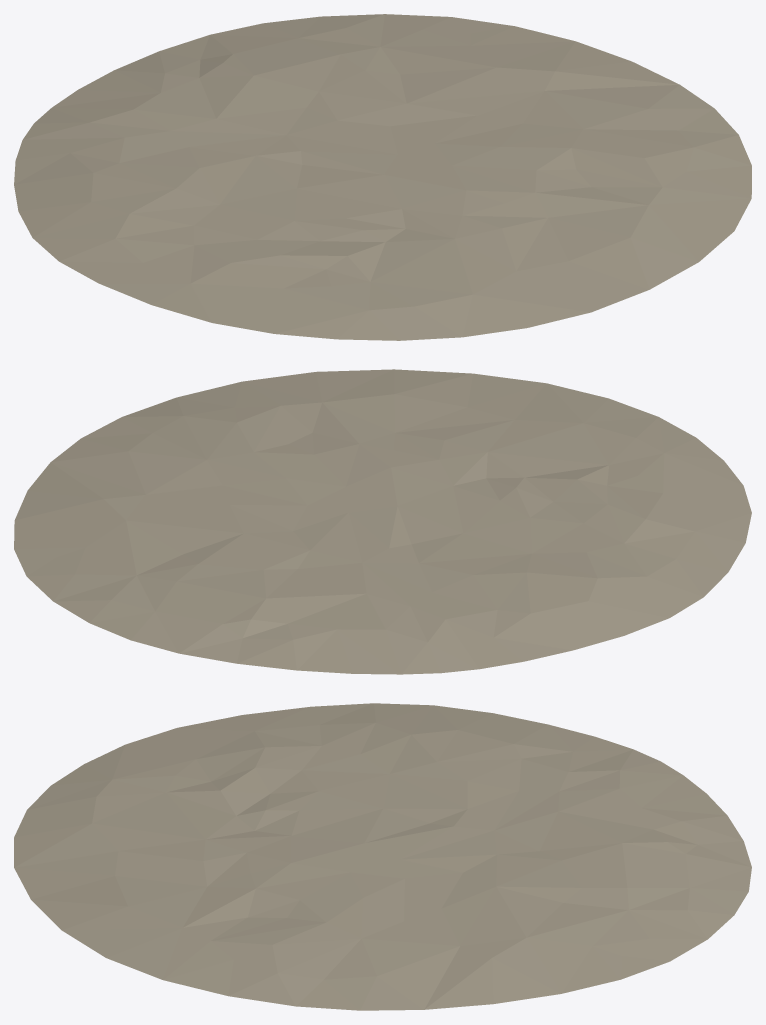
The model's file is SM_Env_Ground_White_01.glb.
The picture shows the model from 3 angles, top to bottom: view 1: azimuth 30°, elevation 25°; view 2: azimuth 150°, elevation 25°; view 3: azimuth 270°, elevation 25°; orthographic projection. The views are drawn at different scales.
Visible parts, largest first — view 1: SM_Env_Ground_White_01; view 2: SM_Env_Ground_White_01; view 3: SM_Env_Ground_White_01.
Part boxes in pixels (x1,y1,x2,y2): SM_Env_Ground_White_01: (14, 14, 751, 340); SM_Env_Ground_White_01: (14, 369, 751, 674); SM_Env_Ground_White_01: (14, 703, 751, 1010).
Bounding box in the file's own units: 36.44 × 0.7303 × 36.97.
Materials: 1 (1 with a texture image).
